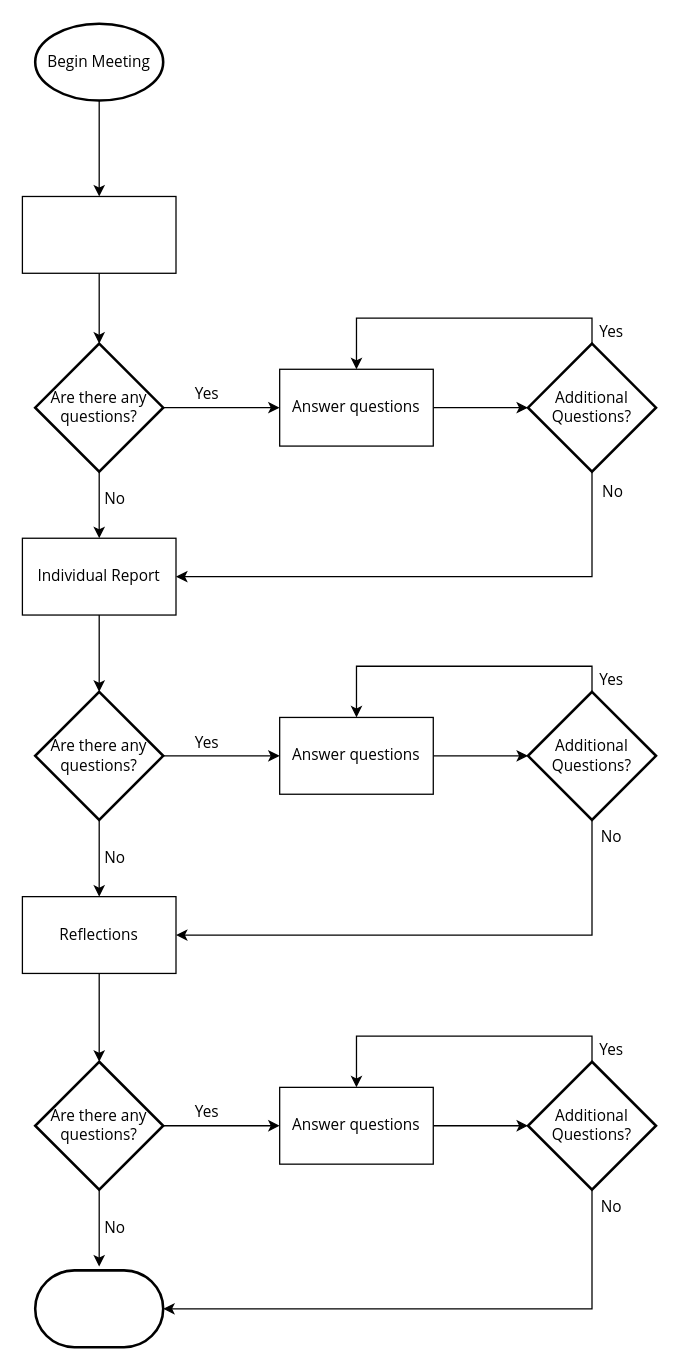
This 680x1370 diagram has some shape labels left out. Each missing label, with the box of its shape:
Demo: (21, 195, 176, 273)
End Meeting: (33, 1268, 164, 1348)
